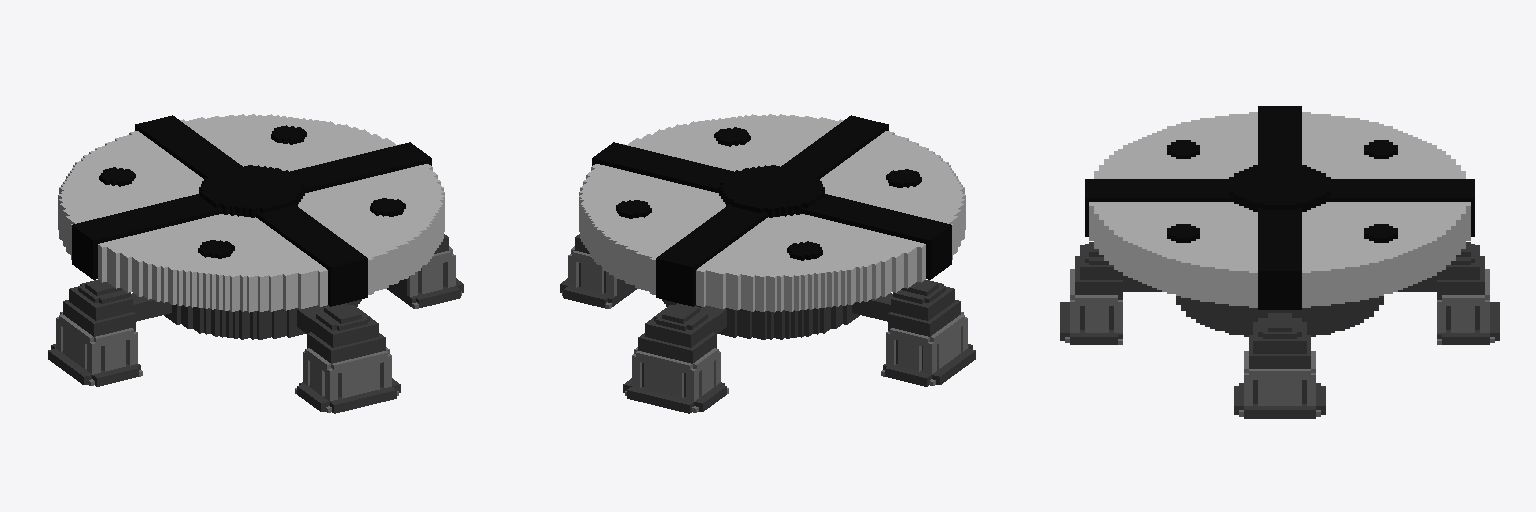
3 views of the same model, side by side, from view 1: azimuth 30°, elevation 25°; view 2: azimuth 150°, elevation 25°; view 3: azimuth 270°, elevation 25° (orthographic).
Parts seen in each view (by area): view 1: object 1; view 2: object 1; view 3: object 1.
Boxes of the visible parts, box(x1,y1,x2,y2) form: object 1: box(48, 114, 463, 413); object 1: box(560, 114, 975, 413); object 1: box(1060, 106, 1499, 418).
Size of the model in its own units: 9.1 by 3.2 by 9.1.
1 materials, 1 textured.